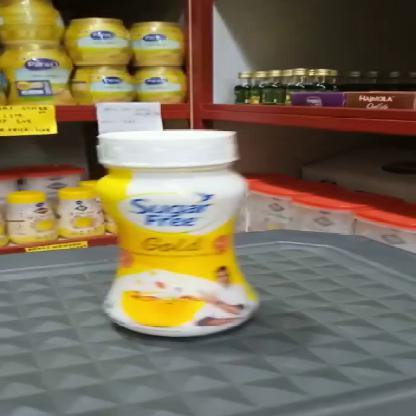SUGAR FREE GOLD POWDER 100GM: (91, 129, 258, 340)
